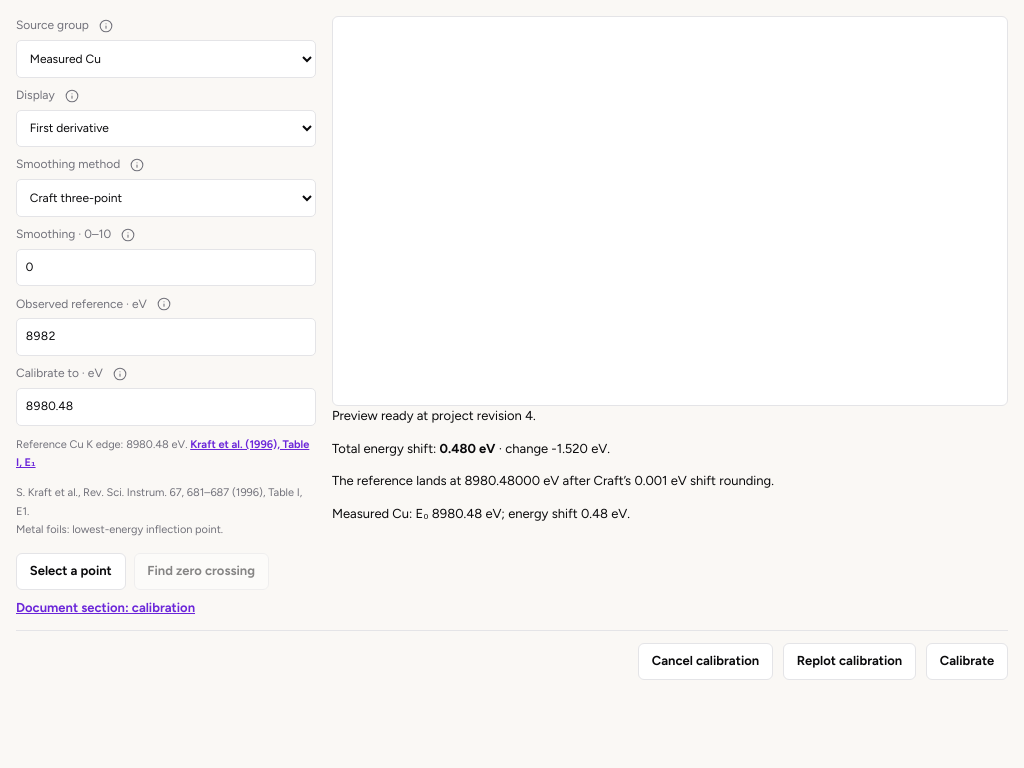
Test: display smoothing keeps raw values, exposes captured SG settings and remembers view choices
Expected: the button "Calibrate" is enabled, left=926, top=643, right=1008, bottom=680
Replace the text in the number field named "Calibration smoothing" with "3" at point(166, 268), box left=16, top=249, right=316, bottom=286
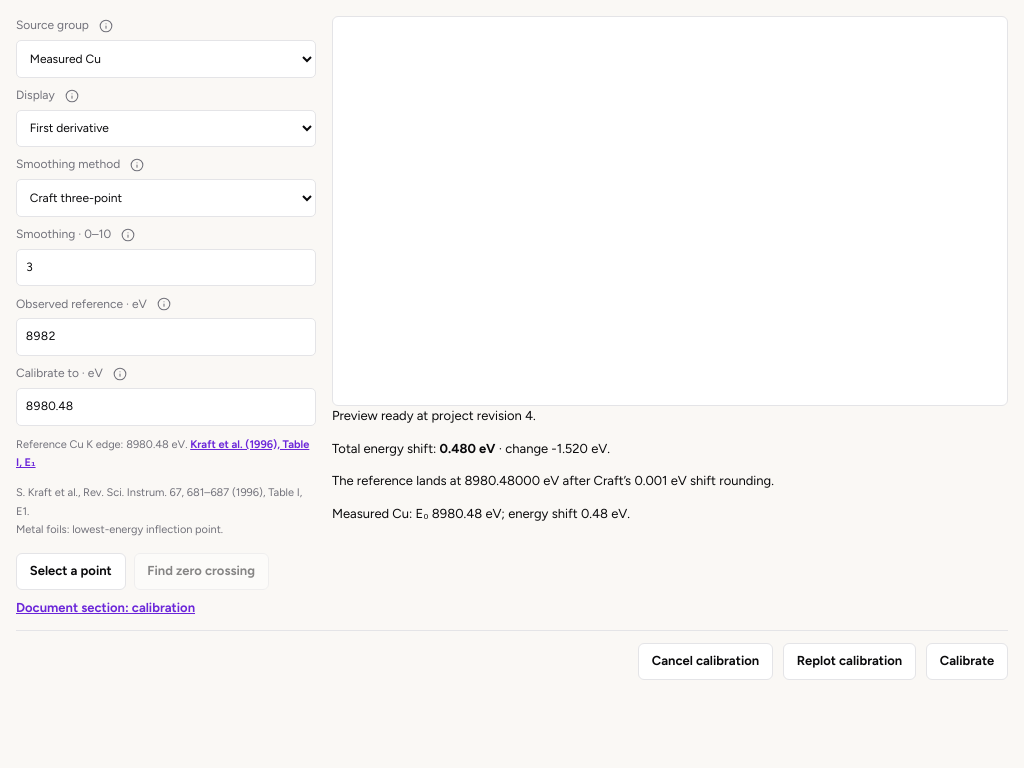
Expected: the button "Calibrate" is enabled, left=926, top=643, right=1008, bottom=680
Select "Larch Savitzky–Golay" in the dropdown named "Calibration smoothing method" at point(166, 198), box left=16, top=179, right=316, bottom=217
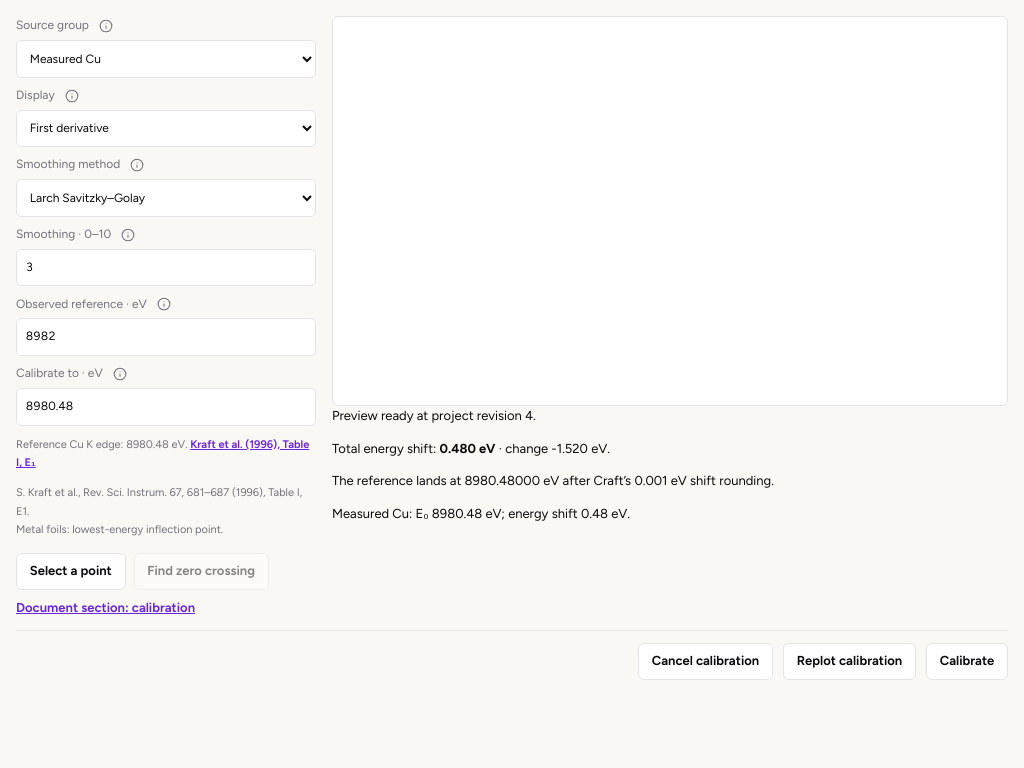
Expected: the button "Calibrate" is enabled, left=926, top=643, right=1008, bottom=680
Hover over the button named "About Calibration smoothing" at point(137, 165), box left=130, top=158, right=144, bottom=172
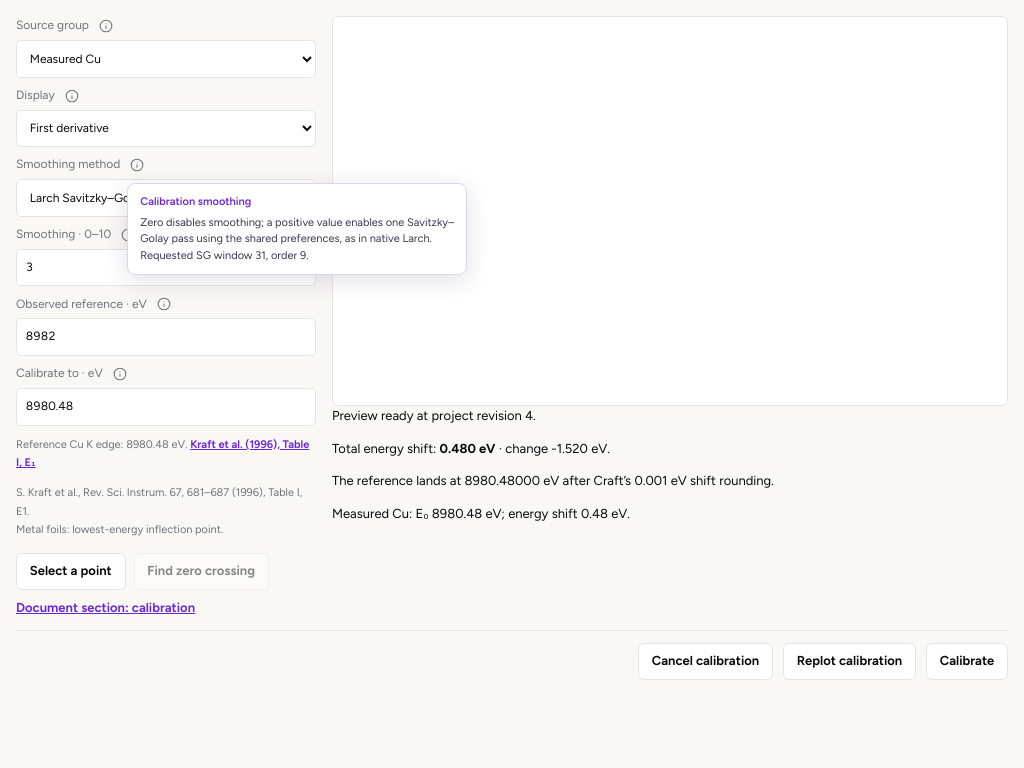
Expected: the tooltip shows "Requested SG window 31, order 9", left=140, top=249, right=308, bottom=262
